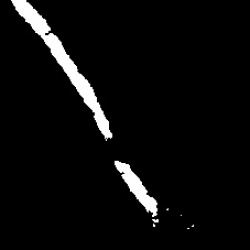crack: (11, 2, 114, 139), (114, 161, 160, 229)
pinhole: (180, 221, 198, 232)
